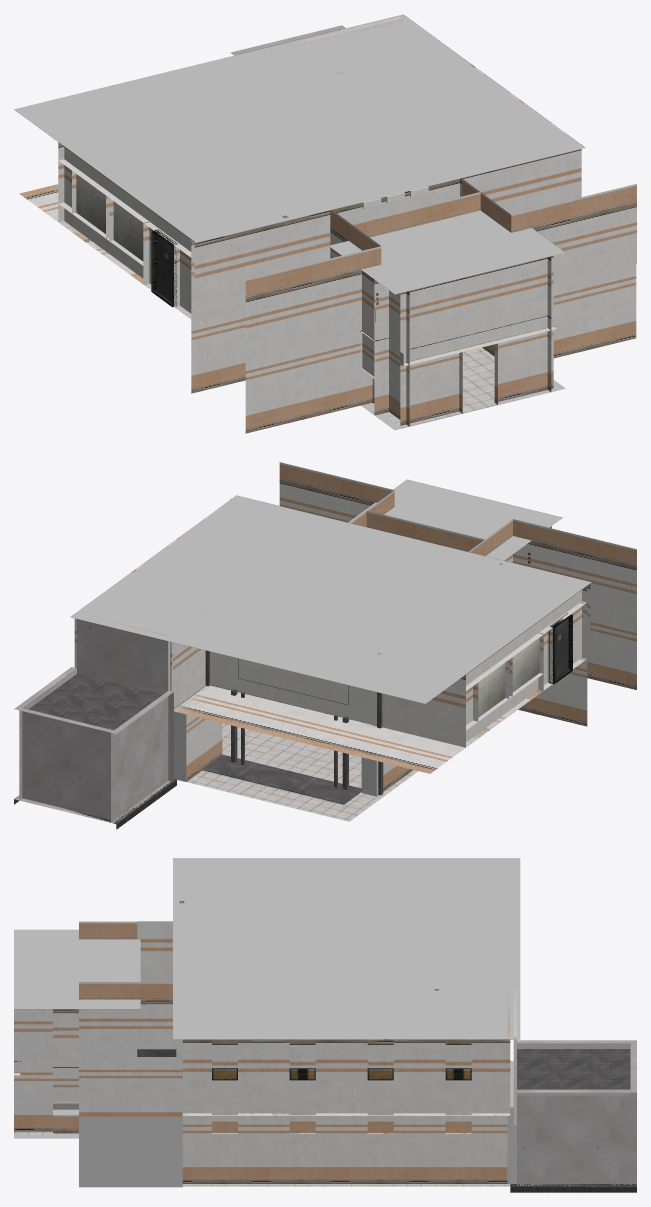
Rendered from RZ_exit1_gateb.gltf.
3 renders of one model, top to bottom at view 1: azimuth 30°, elevation 25°; view 2: azimuth 150°, elevation 25°; view 3: azimuth 270°, elevation 25°, orthographic. The views are drawn at different scales.
Visible parts, largest first — view 1: RZ_exit1_gateb; view 2: RZ_exit1_gateb; view 3: RZ_exit1_gateb.
Part boxes in pixels (<box>): RZ_exit1_gateb: <box>14,14,636,433</box>; RZ_exit1_gateb: <box>14,462,636,829</box>; RZ_exit1_gateb: <box>14,858,636,1192</box>.
Size of the model in its own units: 21.34 by 8.33 by 30.72.
